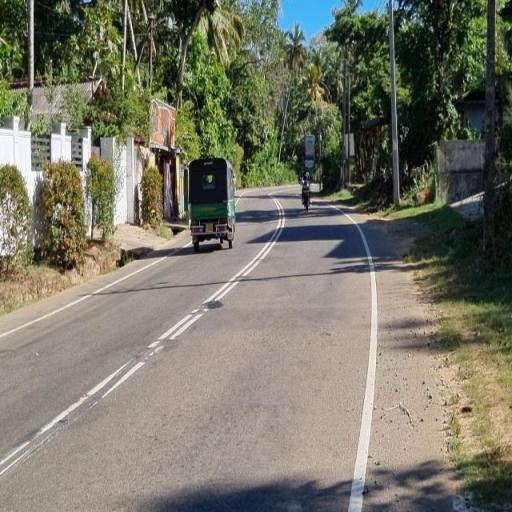double_white_line: (146, 197, 287, 360)
